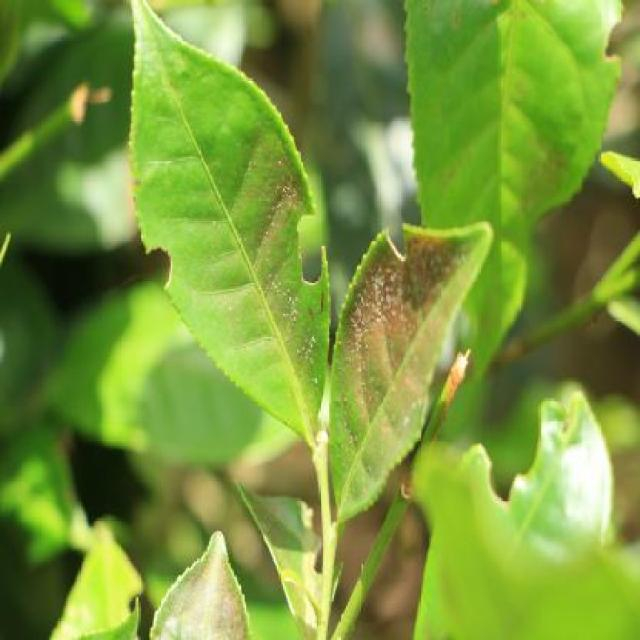Red Spider infested tea leaf: (123, 15, 354, 494), (328, 216, 492, 544)
